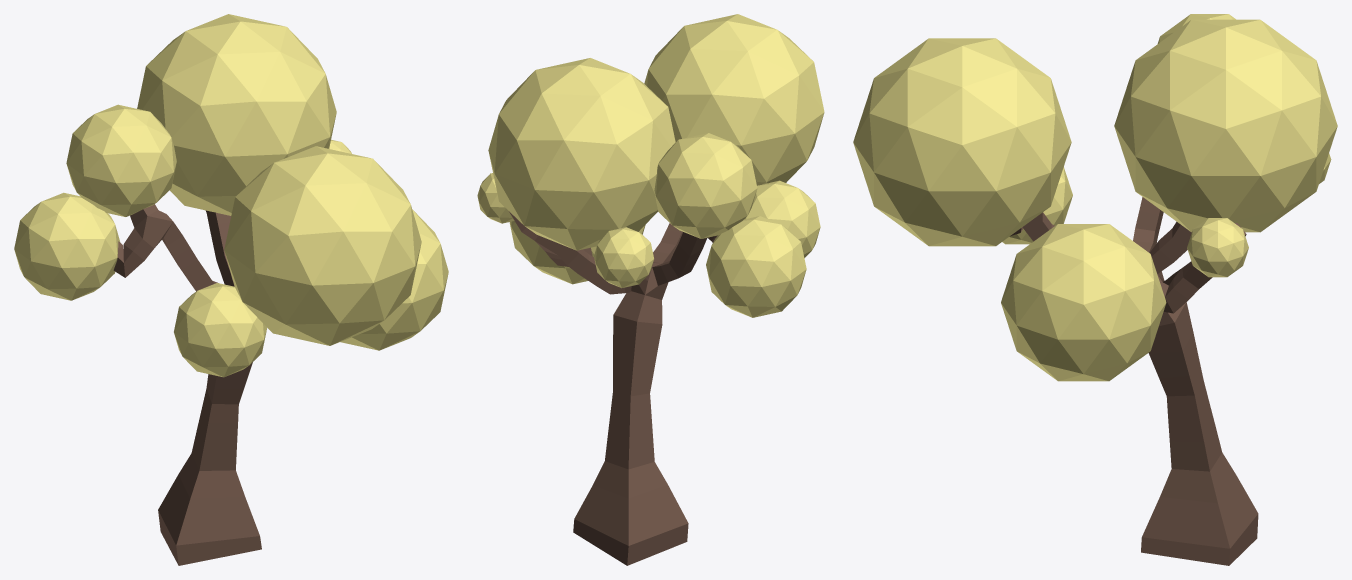
File: Arvore_amarelada.fbx
3 views of the same model, side by side, from view 1: azimuth 30°, elevation 25°; view 2: azimuth 150°, elevation 25°; view 3: azimuth 270°, elevation 25° (orthographic). The views are drawn at different scales.
Visible parts, largest first — view 1: tronco.001; view 2: tronco.001; view 3: tronco.001.
Boxes of the visible parts, bbox=[...] form: tronco.001: bbox=[14, 14, 448, 565]; tronco.001: bbox=[477, 14, 824, 565]; tronco.001: bbox=[853, 14, 1337, 565].
Bounding box in the file's own units: 568 × 770 × 620.
